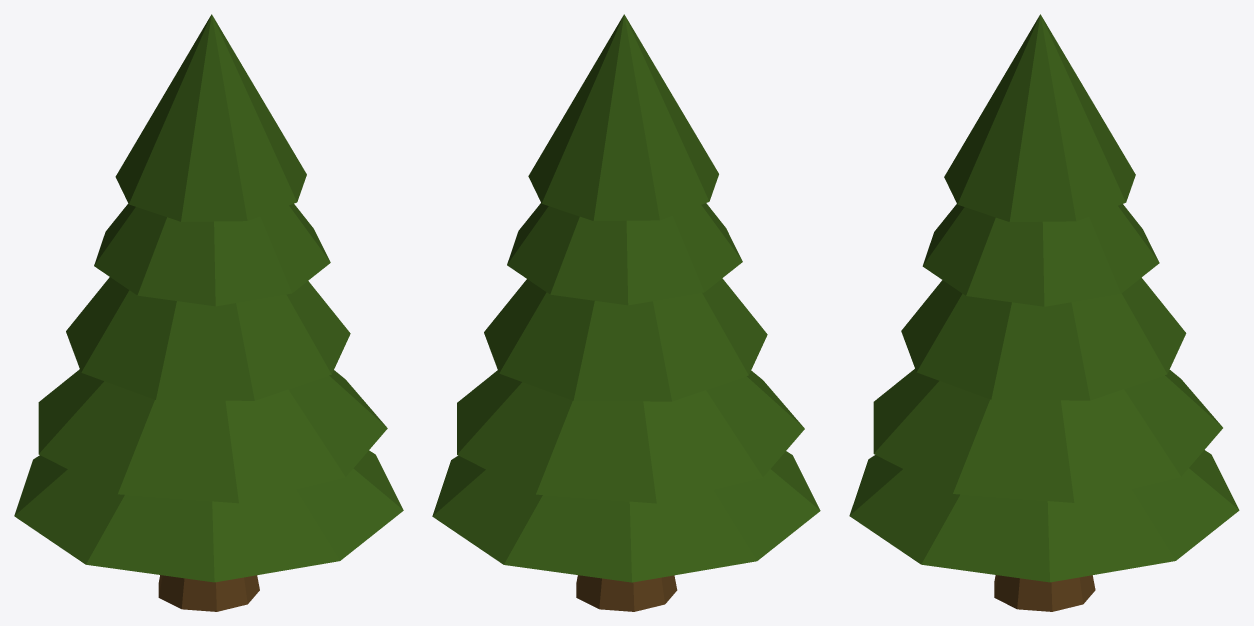
File: pinetree.fbx
3 renders of one model, left to right at view 1: azimuth 30°, elevation 25°; view 2: azimuth 150°, elevation 25°; view 3: azimuth 270°, elevation 25°, orthographic.
Visible parts, largest first — view 1: Cylinder.002, Cylinder.001, Cylinder.003, Cylinder.005, Cylinder.004, Cylinder; view 2: Cylinder.002, Cylinder.001, Cylinder.003, Cylinder.005, Cylinder.004, Cylinder; view 3: Cylinder.002, Cylinder.001, Cylinder.003, Cylinder.005, Cylinder.004, Cylinder.
Part boxes in pixels (box(x1,y1,x2,y2)): Cylinder.002: box(38, 369, 387, 503); Cylinder.001: box(14, 450, 403, 582); Cylinder.003: box(66, 277, 350, 400); Cylinder.005: box(115, 14, 306, 221); Cylinder.004: box(94, 203, 330, 306); Cylinder: box(158, 575, 259, 611); Cylinder.002: box(457, 370, 804, 503); Cylinder.001: box(432, 451, 820, 582); Cylinder.003: box(484, 278, 767, 401); Cylinder.005: box(528, 14, 718, 220); Cylinder.004: box(507, 203, 742, 305); Cylinder: box(576, 575, 677, 611); Cylinder.002: box(873, 369, 1222, 502); Cylinder.001: box(849, 450, 1239, 582); Cylinder.003: box(901, 277, 1186, 400); Cylinder.005: box(944, 14, 1135, 221); Cylinder.004: box(922, 204, 1159, 306); Cylinder: box(994, 575, 1095, 611).
Size of the model in its own units: 448 by 739 by 453.
